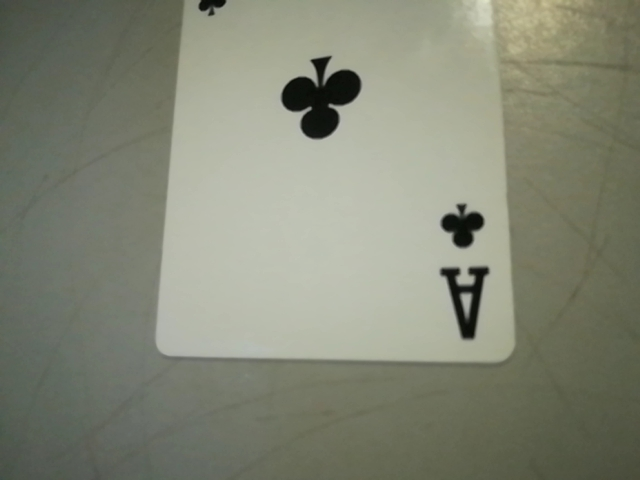mh a: (418, 187, 502, 351)
